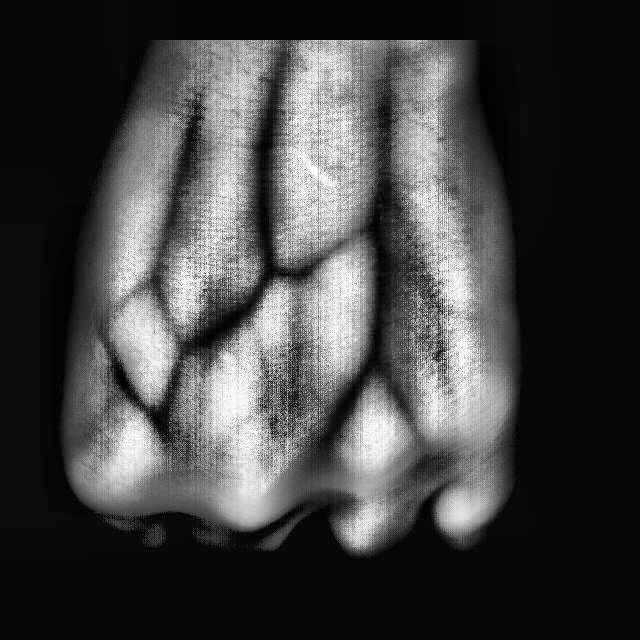Vein: (144, 79, 221, 261), (254, 54, 290, 252), (368, 105, 400, 290)
